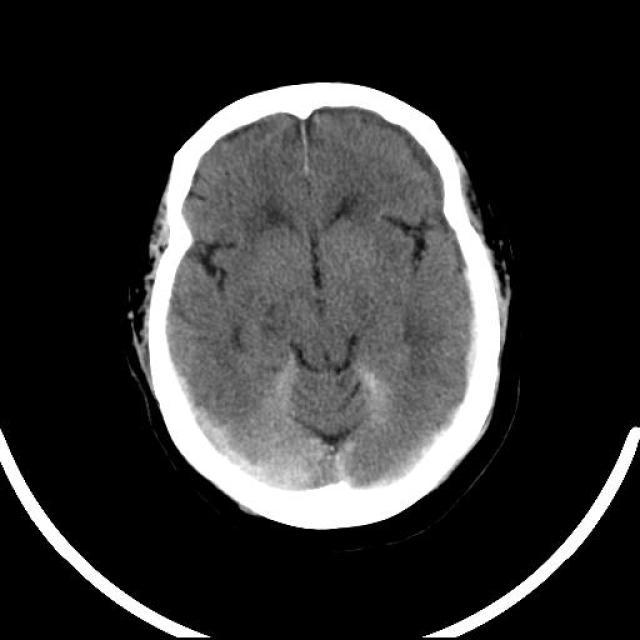Intraparenchymal: (353, 359, 385, 430), (269, 358, 301, 428)
Subdural: (155, 376, 266, 502), (435, 300, 520, 425)
